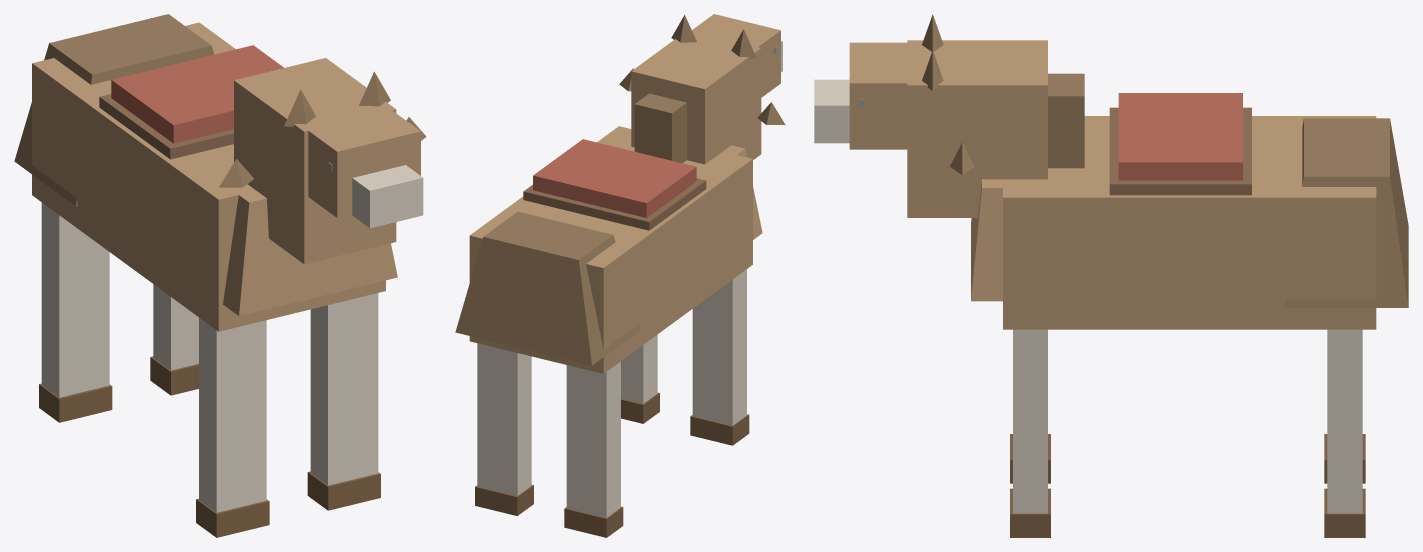
The model's file is Horse.fbx.
The picture shows the model from 3 angles, left to right: view 1: azimuth 30°, elevation 25°; view 2: azimuth 150°, elevation 25°; view 3: azimuth 270°, elevation 25°; orthographic projection. The views are drawn at different scales.
Visible parts, largest first — view 1: Horse_Body, Horse_Neck, Horse_Leg, Horse_Leg.002, Horse_Leg.001, Horse_Chest, Horse_Saddle, Horse_Head, Horse_Rump, Horse_Muzzle, Horse_Leg.003, Horse_SaddlePad (+7 smaller); view 2: Horse_Body, Horse_Rump, Horse_Neck, Horse_Saddle, Horse_Leg.001, Horse_Leg.003, Horse_Leg, Horse_Head, Horse_Mane, Horse_SaddlePad, Horse_Leg.002, Horse_Hoof (+6 smaller); view 3: Horse_Body, Horse_Neck, Horse_Rump, Horse_Saddle, Horse_Head, Horse_Leg.003, Horse_Leg.002, Horse_Chest, Horse_SaddlePad, Horse_Mane, Horse_Muzzle, Horse_Hoof.003 (+1 smaller).
Boxes of the visible parts, <box> form: Horse_Body: <box>32,22,385,331</box>; Horse_Neck: <box>234,58,396,264</box>; Horse_Leg: <box>199,317,266,512</box>; Horse_Leg.002: <box>310,293,378,485</box>; Horse_Leg.001: <box>41,202,109,397</box>; Horse_Chest: <box>206,163,397,315</box>; Horse_Saddle: <box>111,45,283,143</box>; Horse_Head: <box>282,89,420,217</box>; Horse_Rump: <box>14,14,214,206</box>; Horse_Muzzle: <box>351,165,423,228</box>; Horse_Leg.003: <box>153,284,198,370</box>; Horse_SaddlePad: <box>99,94,233,159</box>; Horse_Body: <box>469,126,752,373</box>; Horse_Rump: <box>455,211,641,365</box>; Horse_Neck: <box>631,31,761,164</box>; Horse_Saddle: <box>533,139,696,217</box>; Horse_Leg.001: <box>566,361,620,517</box>; Horse_Leg.003: <box>477,343,531,495</box>; Horse_Leg: <box>692,269,746,425</box>; Horse_Head: <box>669,14,780,97</box>; Horse_Mane: <box>634,93,686,163</box>; Horse_SaddlePad: <box>523,178,706,230</box>; Horse_Leg.002: <box>621,334,657,403</box>; Horse_Hoof: <box>690,414,749,445</box>; Horse_Body: <box>1003,116,1376,329</box>; Horse_Neck: <box>907,40,1047,217</box>; Horse_Rump: <box>1285,118,1408,307</box>; Horse_Saddle: <box>1118,93,1242,180</box>; Horse_Head: <box>849,42,964,149</box>; Horse_Leg.003: <box>1327,329,1362,513</box>; Horse_Leg.002: <box>1013,329,1047,513</box>; Horse_Chest: <box>971,168,1071,301</box>; Horse_SaddlePad: <box>1109,107,1251,195</box>; Horse_Mane: <box>1048,73,1084,168</box>; Horse_Muzzle: <box>814,79,849,143</box>; Horse_Hoof.003: <box>1324,488,1365,537</box>.
Bounding box in the file's own units: 105 × 225 × 260.
